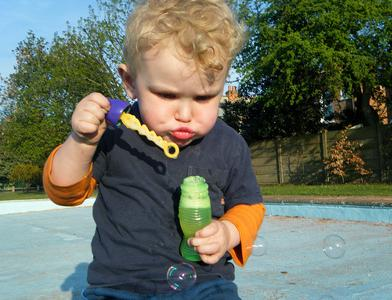person: (43, 1, 268, 299)
